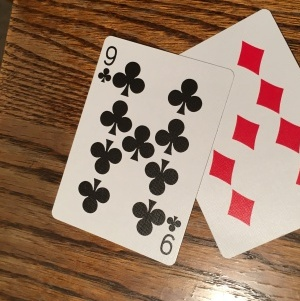card: (49, 35, 233, 266)
